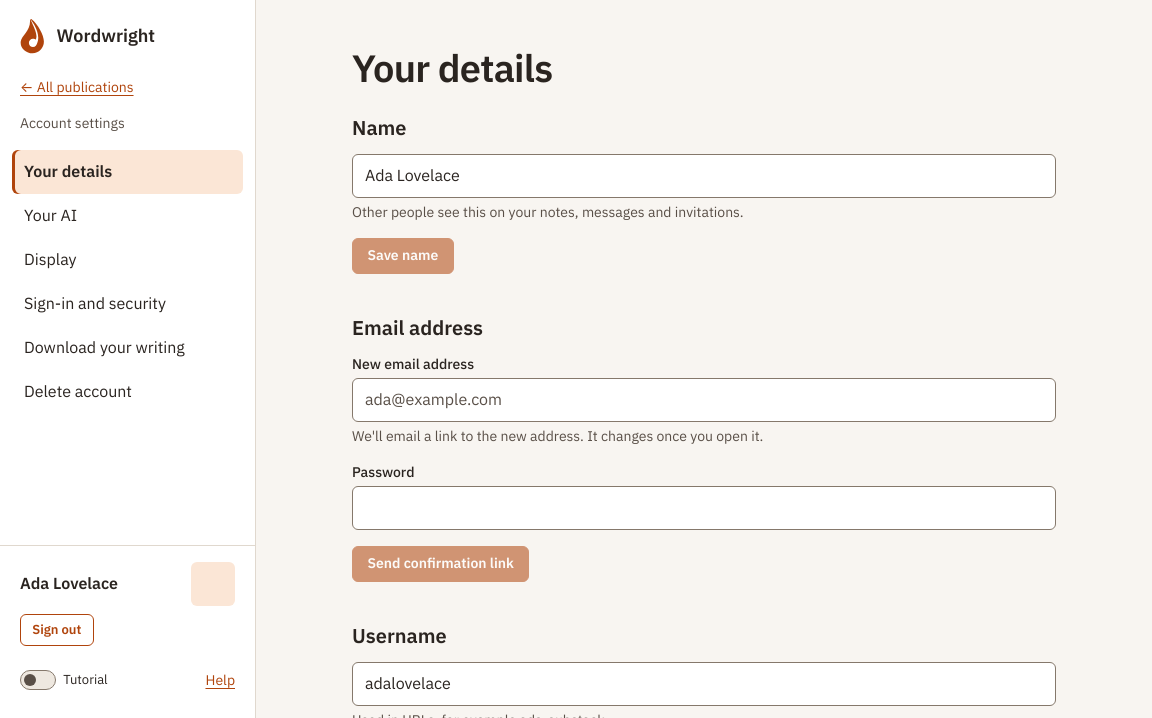
Test: username on the account page › explains what it is for, checks the new one as it is typed, and saves it
Replace the text in the 2nd field named "Username" with "bobby" at (704, 684), box [352, 662, 1056, 706]
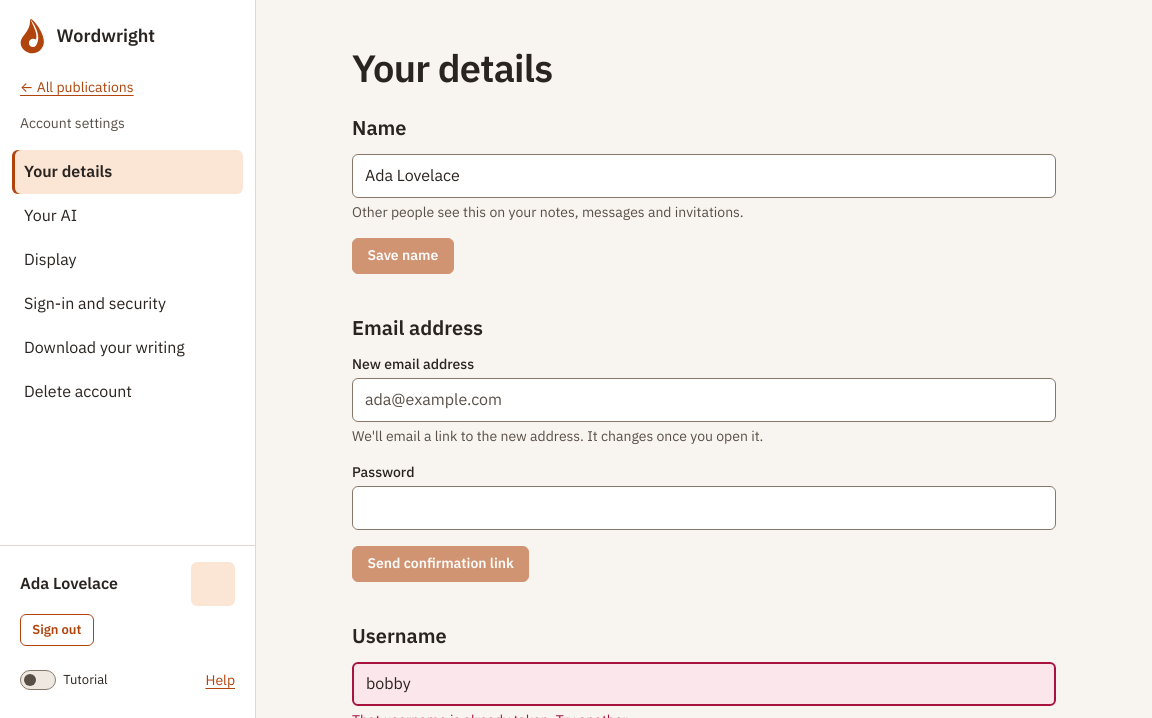
Replace the text in the 2nd field named "Username" with "Lovelace" at (704, 684), box [352, 662, 1056, 706]
(page scrolled)
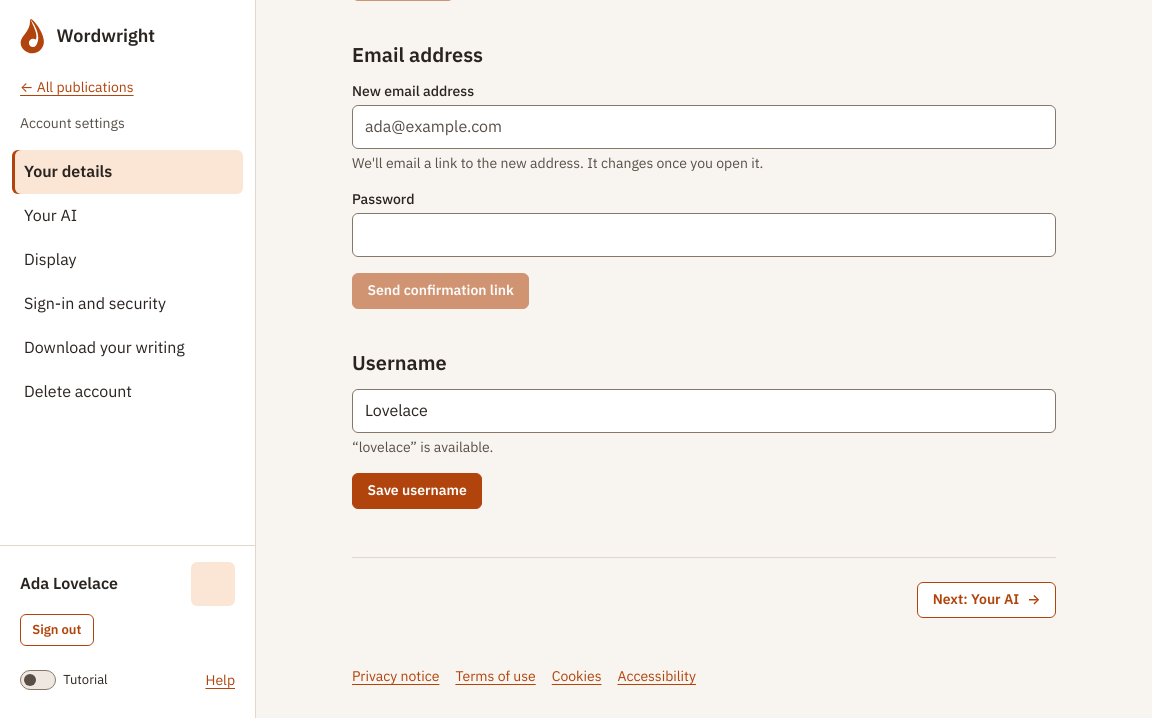
expect the text "“lovelace” is available." is shown: met, box [352, 438, 493, 456]
Click the button "Save username" at (417, 491), box [352, 473, 482, 509]
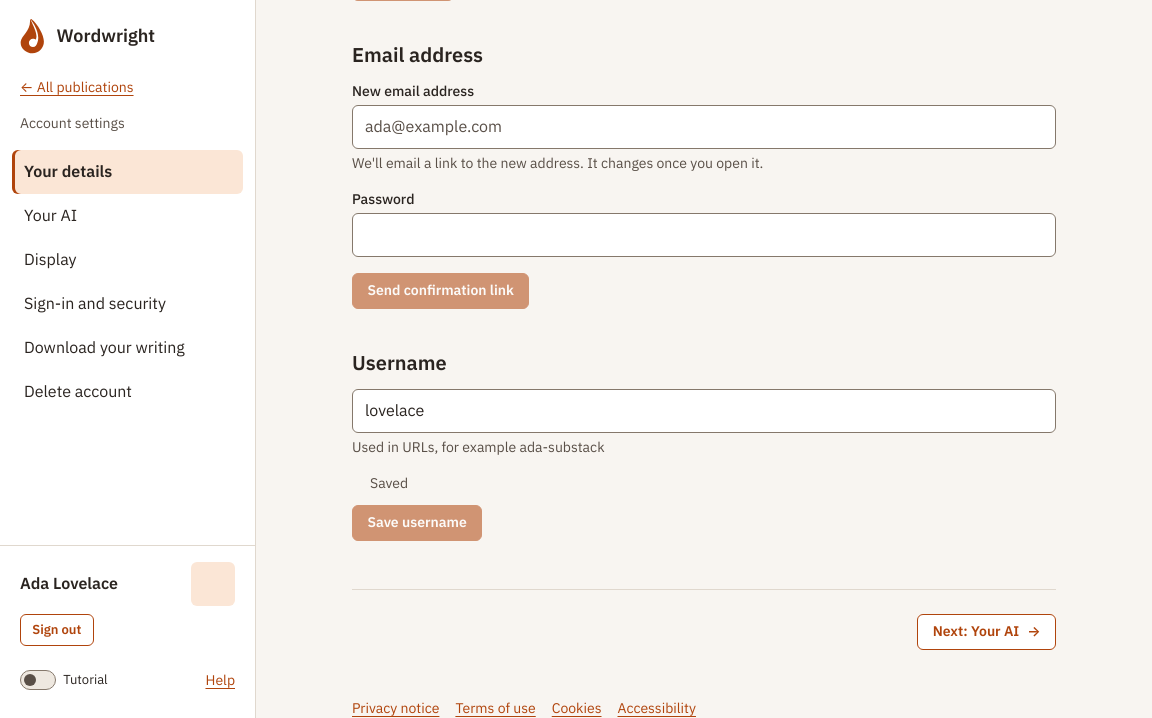
expect the text "Saved" is shown: met, box [352, 474, 408, 492]
